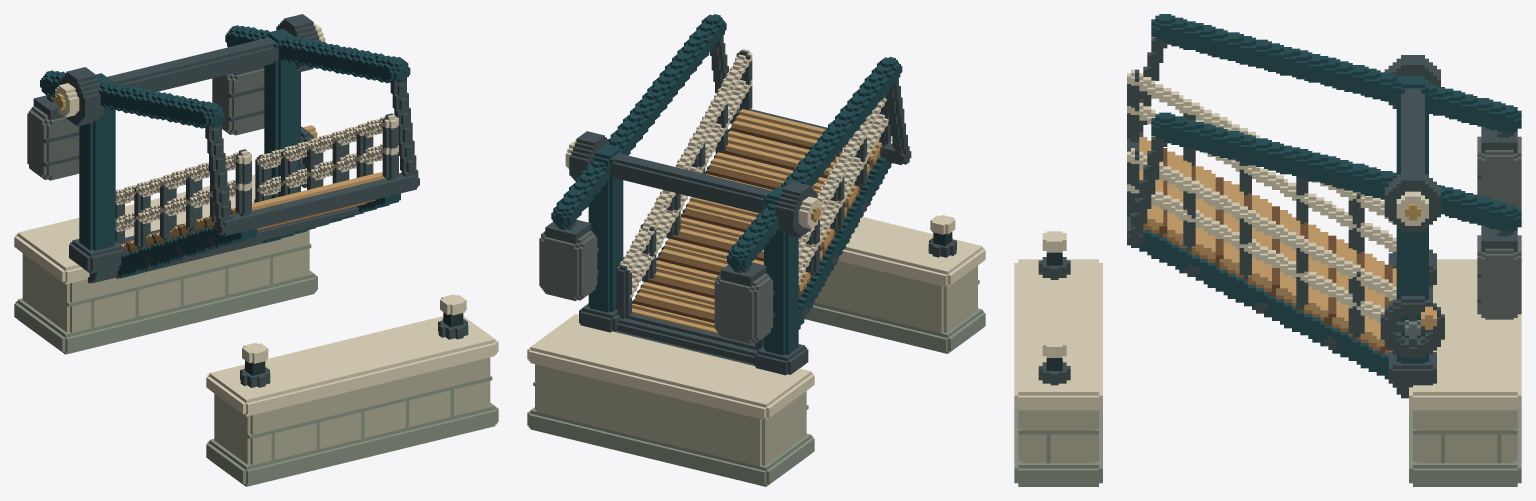
The model's file is drawbridge.glb.
The picture shows the model from 3 angles, left to right: view 1: azimuth 30°, elevation 25°; view 2: azimuth 150°, elevation 25°; view 3: azimuth 270°, elevation 25°; orthographic projection. The views are drawn at different scales.
Visible parts, largest first — view 1: drawbridge; view 2: drawbridge; view 3: drawbridge.
Part boxes in pixels (x1=…): drawbridge: x1=14, y1=14, x2=498, y2=486; drawbridge: x1=527, y1=14, x2=985, y2=486; drawbridge: x1=1014, y1=14, x2=1521, y2=486.
Size of the model in its own units: 5.33 by 6.3 by 8.19.
